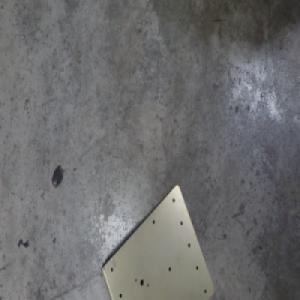MetalSheet: (99, 183, 216, 300)
